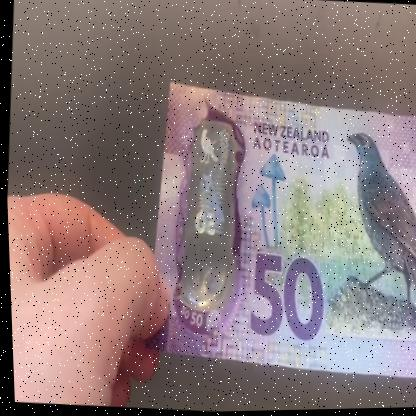50B: (180, 123, 237, 303)
